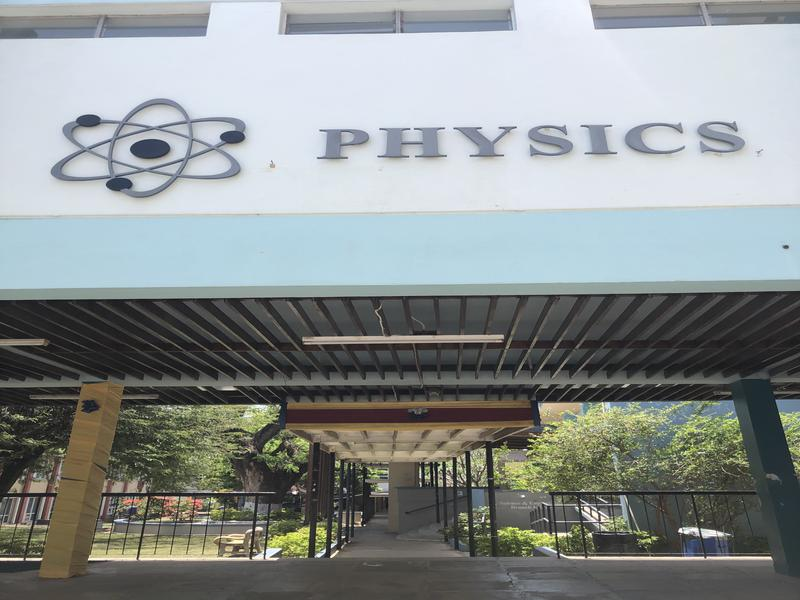18.0053657_-76.7491452_physicssign: (37, 81, 758, 209)
